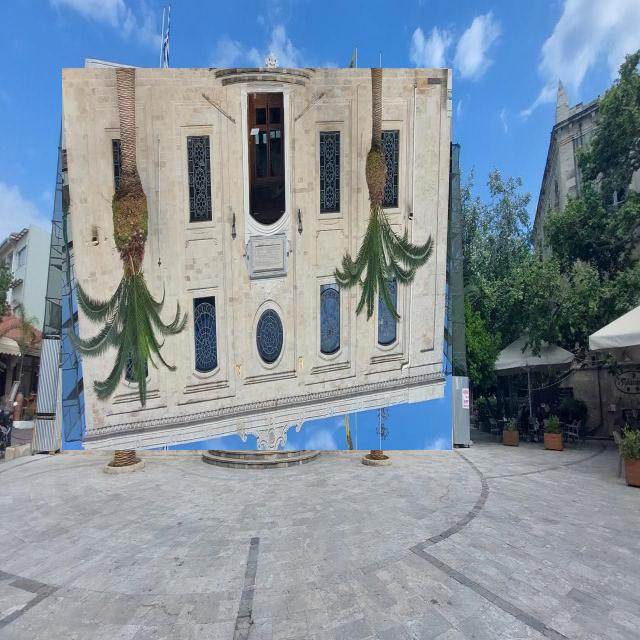Agios Titos: (63, 69, 453, 451)
